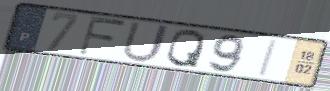7: (44, 10, 85, 54)
9: (208, 33, 247, 74)
F: (75, 14, 129, 58)
I: (256, 38, 281, 79)
Q: (164, 29, 207, 70)
U: (120, 20, 172, 64)
